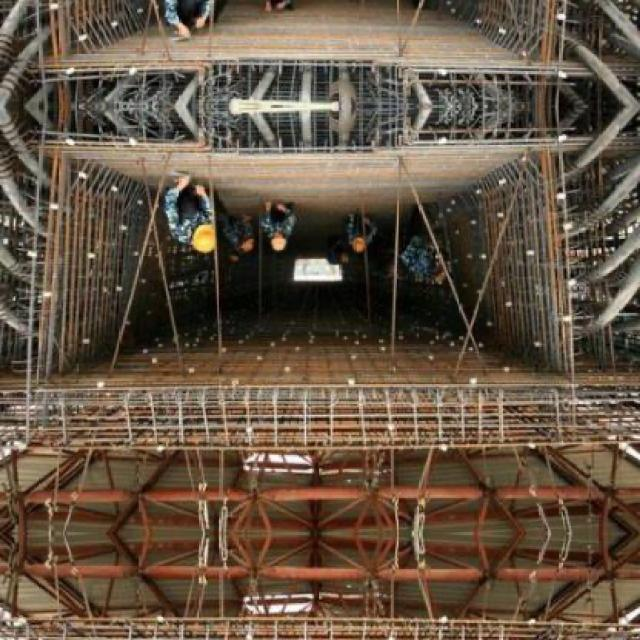con casco: (172, 208, 232, 263), (256, 222, 299, 260)
